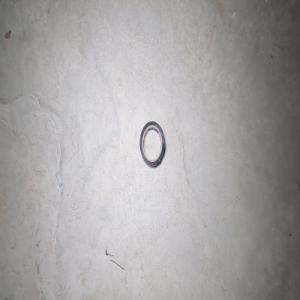Tape: (139, 121, 165, 167)
